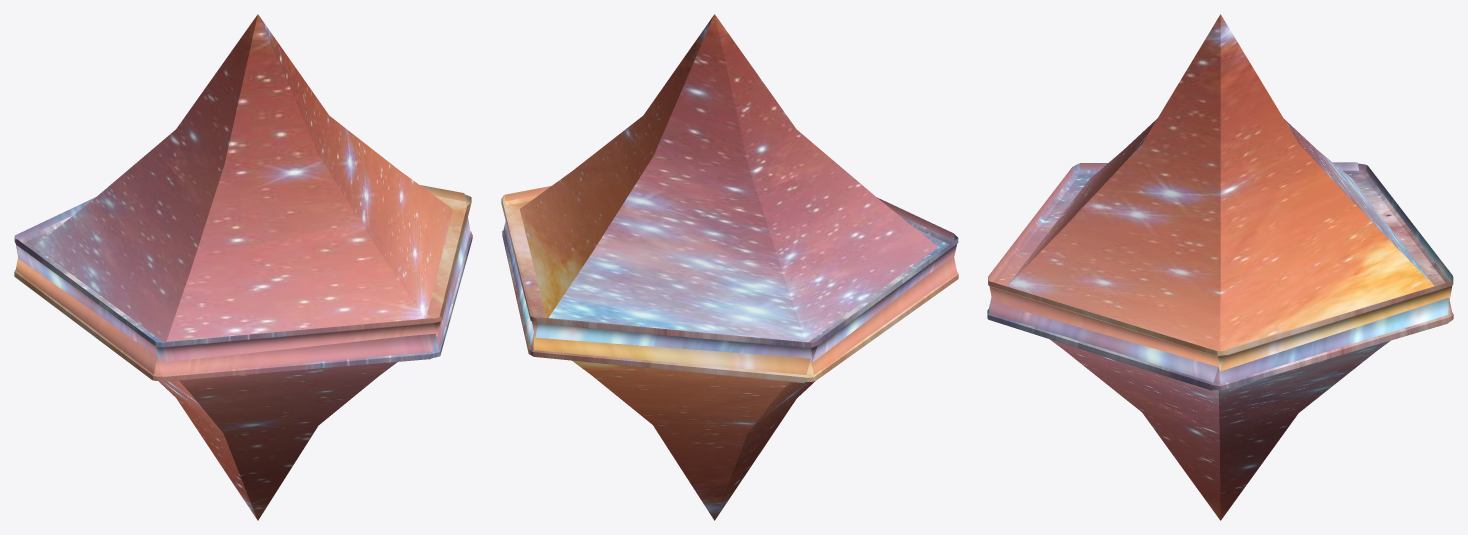
Rendered from six.obj.
The picture shows the model from 3 angles, left to right: view 1: azimuth 30°, elevation 25°; view 2: azimuth 150°, elevation 25°; view 3: azimuth 270°, elevation 25°; orthographic projection.
Visible parts, largest first — view 1: pPyramid1, pPyramid2; view 2: pPyramid1, pPyramid2; view 3: pPyramid1, pPyramid2.
Boxes of the visible parts, box(x1,y1,x2,y2) form: pPyramid1: box(14, 14, 471, 362); pPyramid2: box(14, 218, 472, 520); pPyramid1: box(501, 14, 958, 362); pPyramid2: box(502, 221, 958, 520); pPyramid1: box(988, 14, 1453, 371); pPyramid2: box(987, 297, 1453, 520).
Bounding box in the file's own units: 3.07 × 3.85 × 3.21.
1 material, 1 textured.
